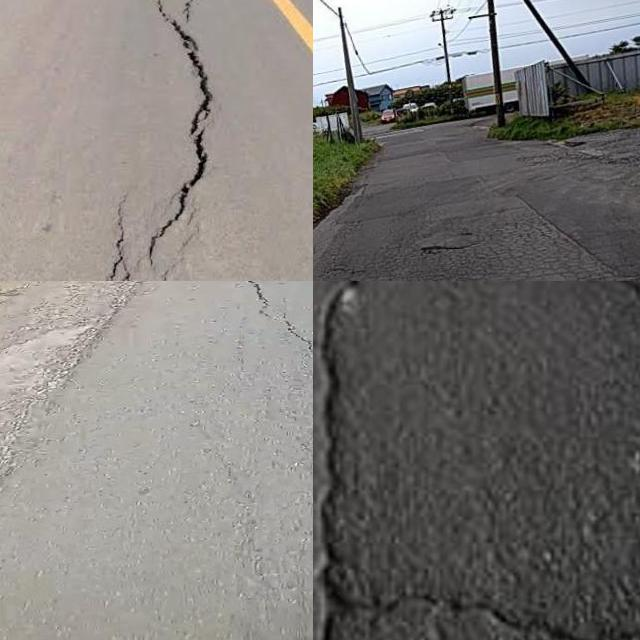Melintang: (371, 577, 640, 640), (411, 281, 635, 307)
Memanjang: (97, 0, 228, 281), (313, 281, 357, 640), (238, 281, 313, 362)
Retak Buaya: (411, 196, 640, 281)
